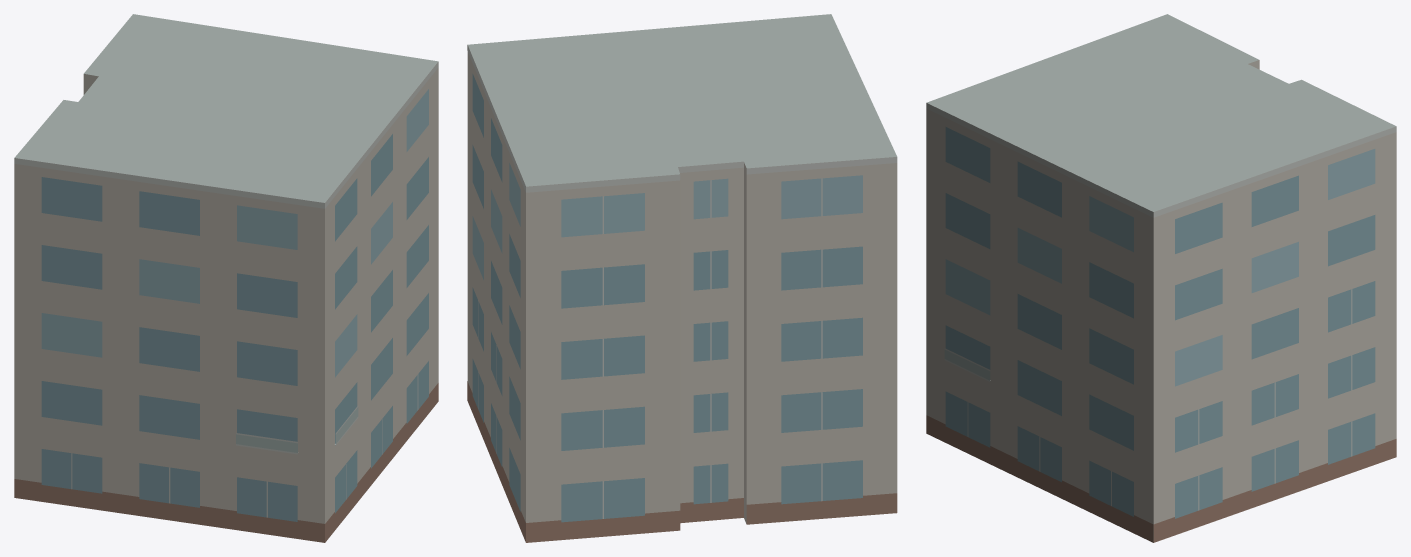
Rendered from survey-upis-32625346.glb.
3 views of the same model, side by side, from view 1: azimuth 30°, elevation 25°; view 2: azimuth 150°, elevation 25°; view 3: azimuth 270°, elevation 25° (orthographic). The views are drawn at different scales.
Parts seen in each view (by area): view 1: survey-upis-32625346.tmp; view 2: survey-upis-32625346.tmp; view 3: survey-upis-32625346.tmp.
Boxes of the visible parts, x1,y1,x2,y2 form: survey-upis-32625346.tmp: [14, 14, 438, 542]; survey-upis-32625346.tmp: [467, 14, 897, 542]; survey-upis-32625346.tmp: [926, 14, 1396, 542].
Size of the model in its own units: 18.25 by 14.2 by 18.31.
